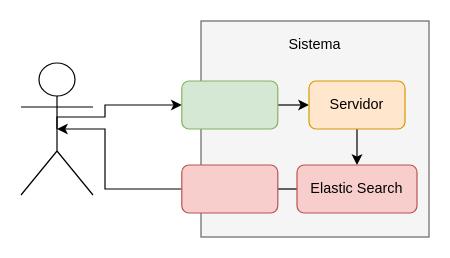
The diagram is 450 pixels wide and 258 high, and some of its shapes have lost their labels. Each missing label, with the centre of its shape:
Kibana: pixel 229 188
Sistema Ficheiros: pixel 229 104
